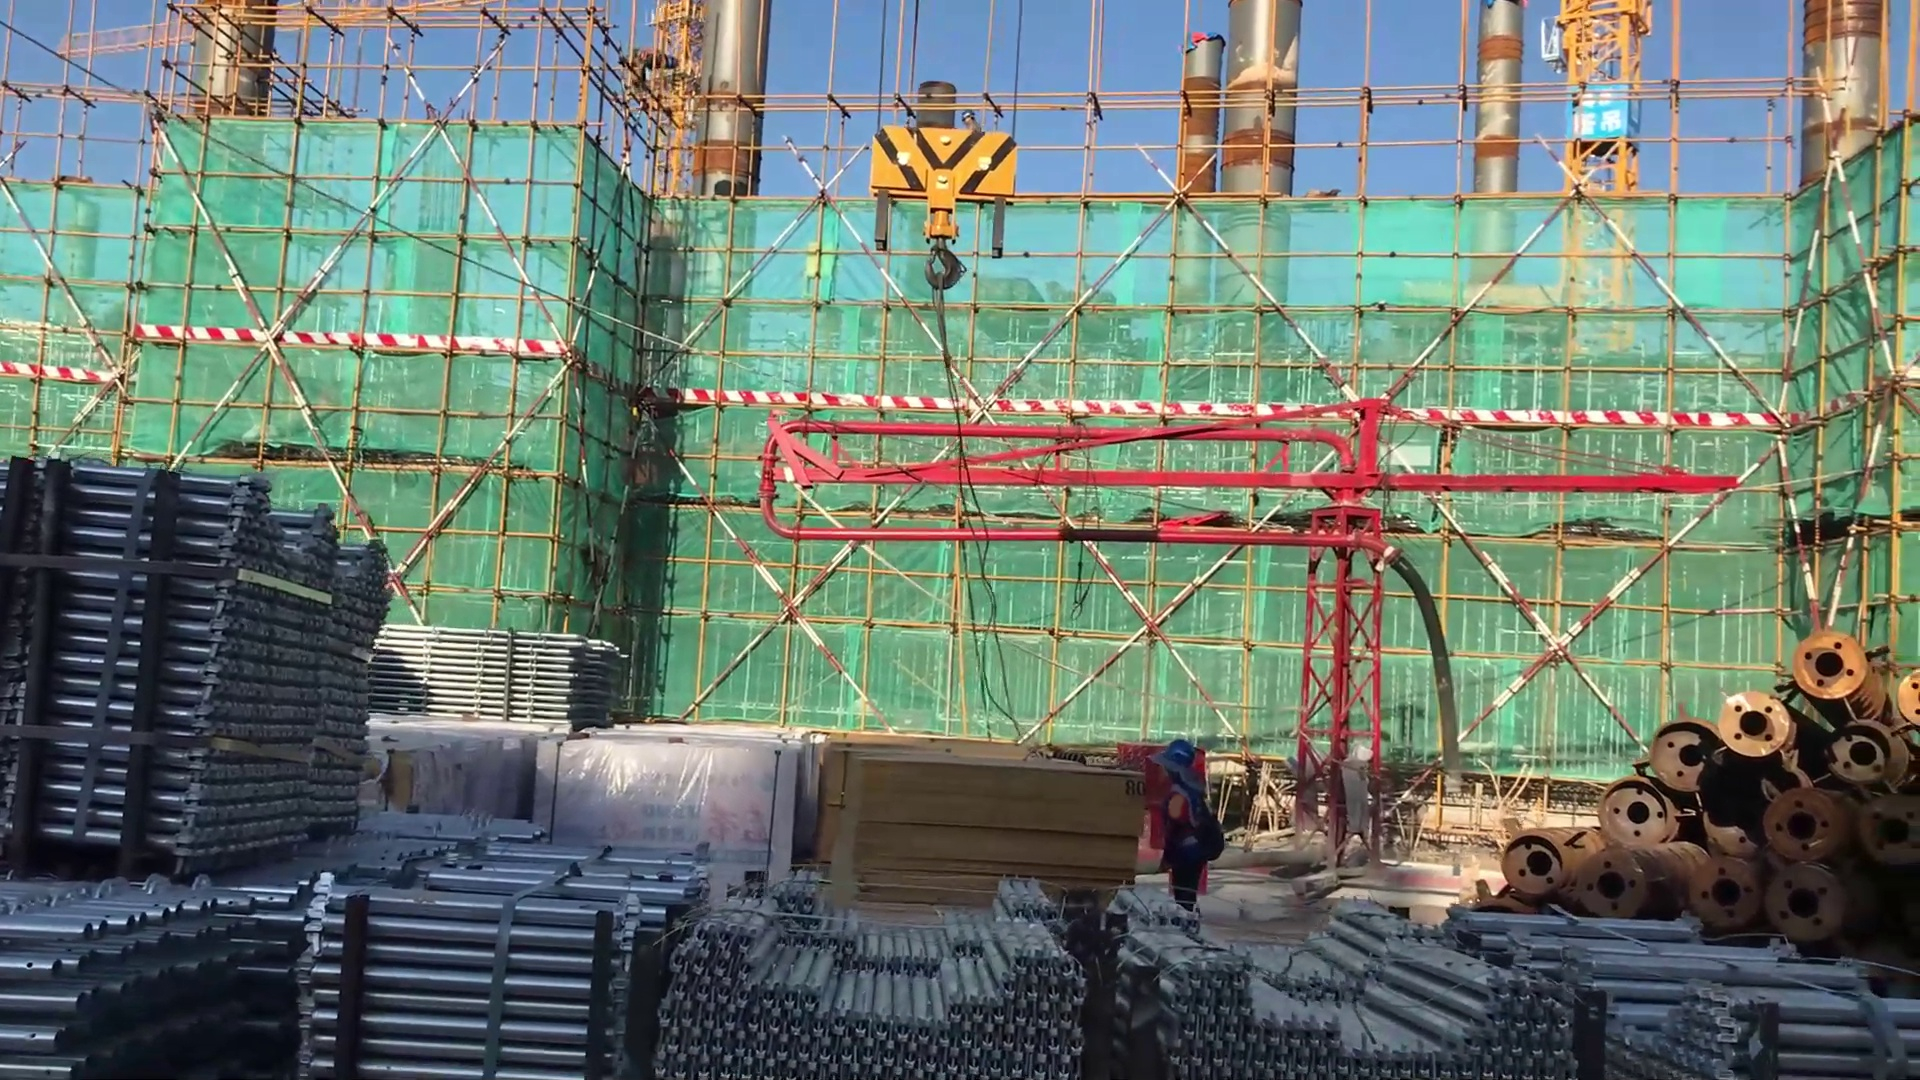board: (812, 731, 1144, 902)
helmet: (1156, 726, 1204, 772), (960, 107, 976, 122)
hook: (847, 102, 1030, 324)
person: (1149, 737, 1223, 920), (952, 104, 996, 141)
scaffold: (1, 453, 408, 859), (1, 817, 512, 1075), (283, 821, 723, 1078), (1101, 885, 1582, 1080), (663, 859, 1083, 1076), (1456, 891, 1920, 1080)
slogan: (1569, 83, 1631, 147)
vest: (1160, 782, 1224, 882)
